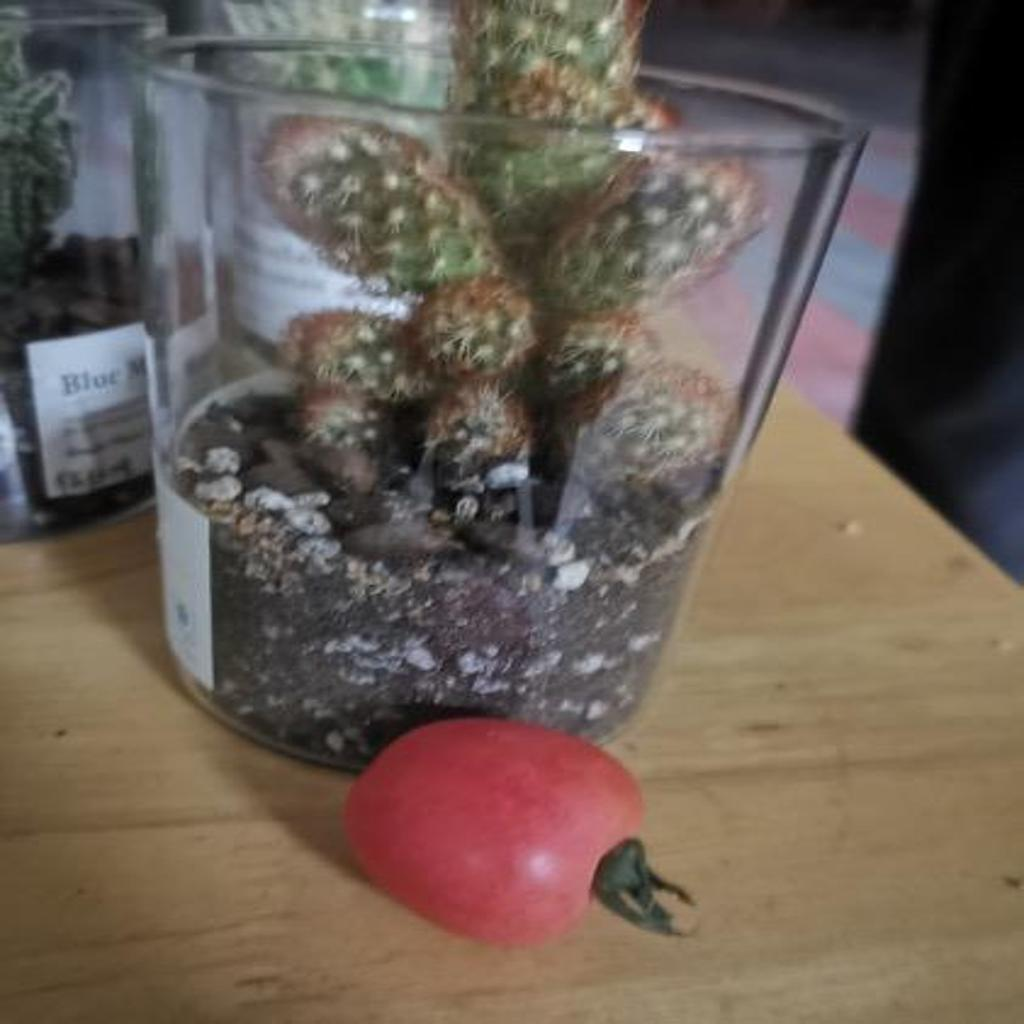tomato: (346, 694, 665, 951)
